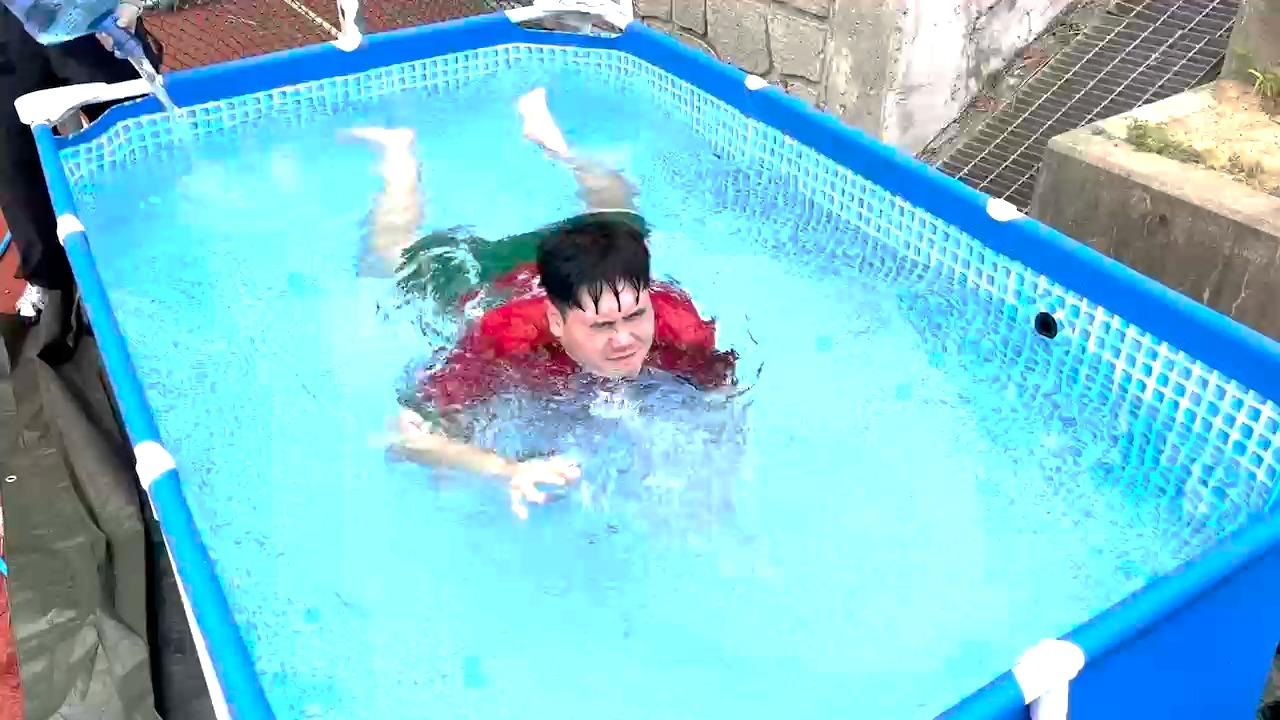Drowning: (305, 17, 814, 565)
